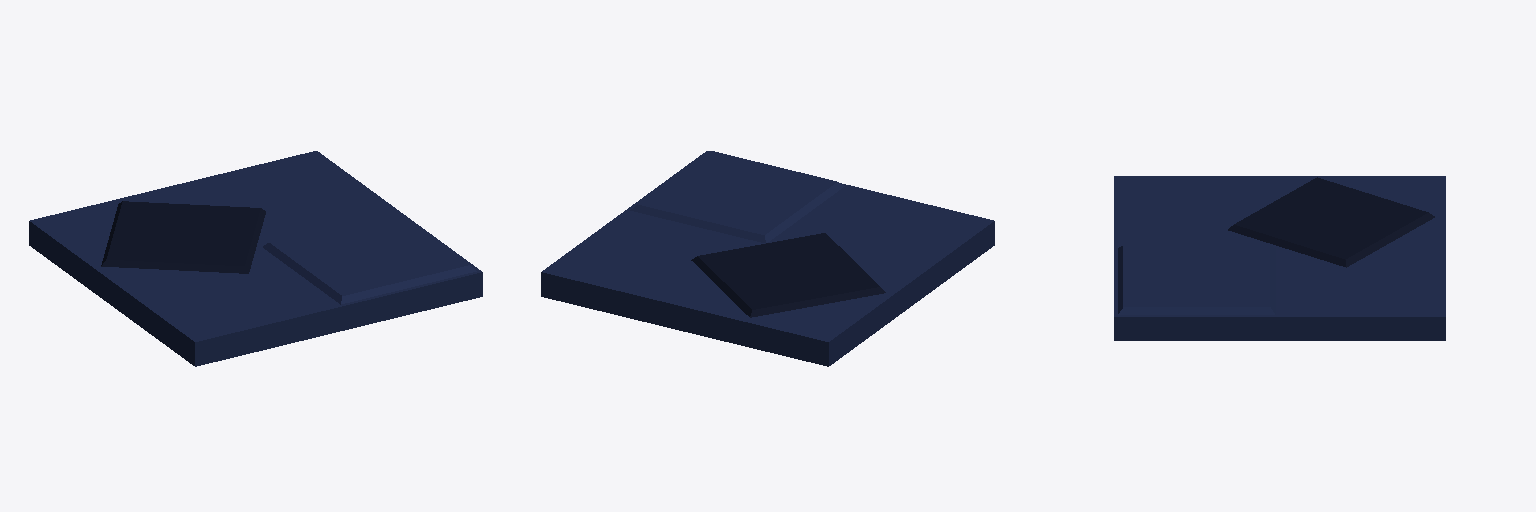
The model's file is tile7.obj.
3 views of the same model, side by side, from view 1: azimuth 30°, elevation 25°; view 2: azimuth 150°, elevation 25°; view 3: azimuth 270°, elevation 25° (orthographic).
Visible parts, largest first — view 1: floor.007_grey_0; view 2: floor.007_grey_0; view 3: floor.007_grey_0.
Part boxes in pixels (x1,y1,x2,y2): floor.007_grey_0: (29,151,482,366); floor.007_grey_0: (541,151,994,366); floor.007_grey_0: (1114,176,1445,340).
Size of the model in its own units: 1 by 0.1 by 1.